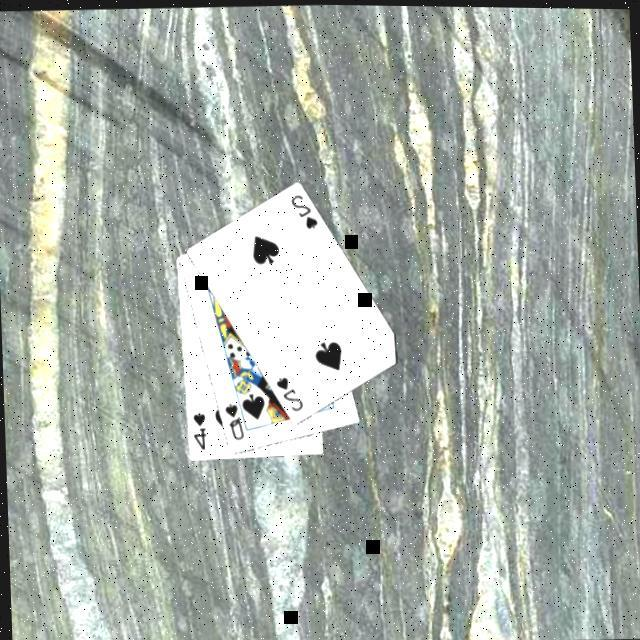2S: (274, 374, 306, 416), (288, 192, 320, 234)
4S: (190, 410, 210, 455)
QS: (222, 401, 247, 444)
